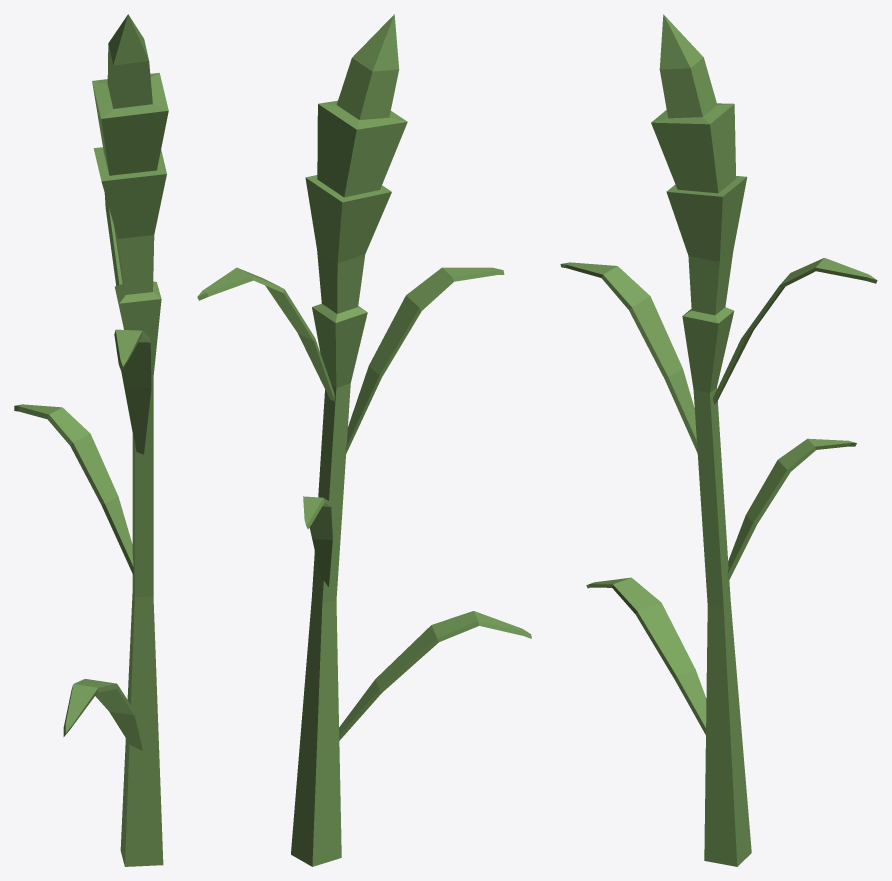
The model's file is wheat_3.gltf.
3 renders of one model, left to right at view 1: azimuth 30°, elevation 25°; view 2: azimuth 150°, elevation 25°; view 3: azimuth 270°, elevation 25°, orthographic. The views are drawn at different scales.
Parts seen in each view (by area): view 1: wheat_3; view 2: wheat_3; view 3: wheat_3.
Boxes of the visible parts, bbox=[...] form: wheat_3: bbox=[14, 14, 168, 866]; wheat_3: bbox=[197, 14, 531, 866]; wheat_3: bbox=[560, 14, 877, 866].
Bounding box in the file's own units: 0.1648 × 0.6943 × 0.2431.
1 material, 1 textured.
